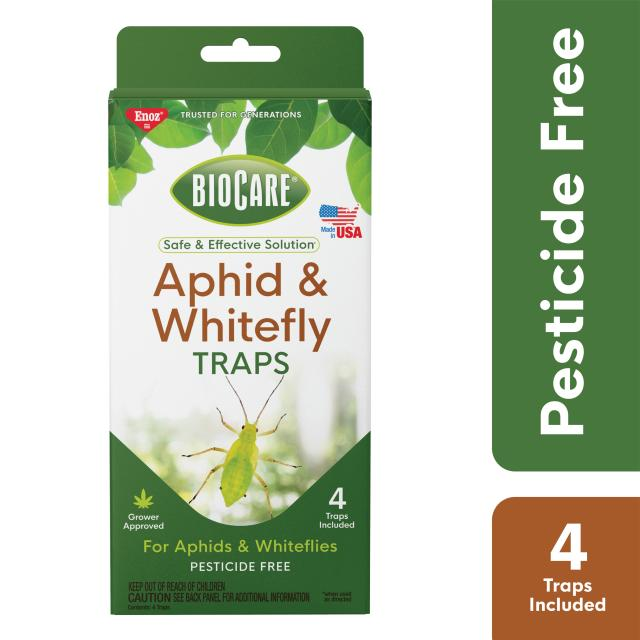Aphid-Grown-: (180, 376, 300, 517)
